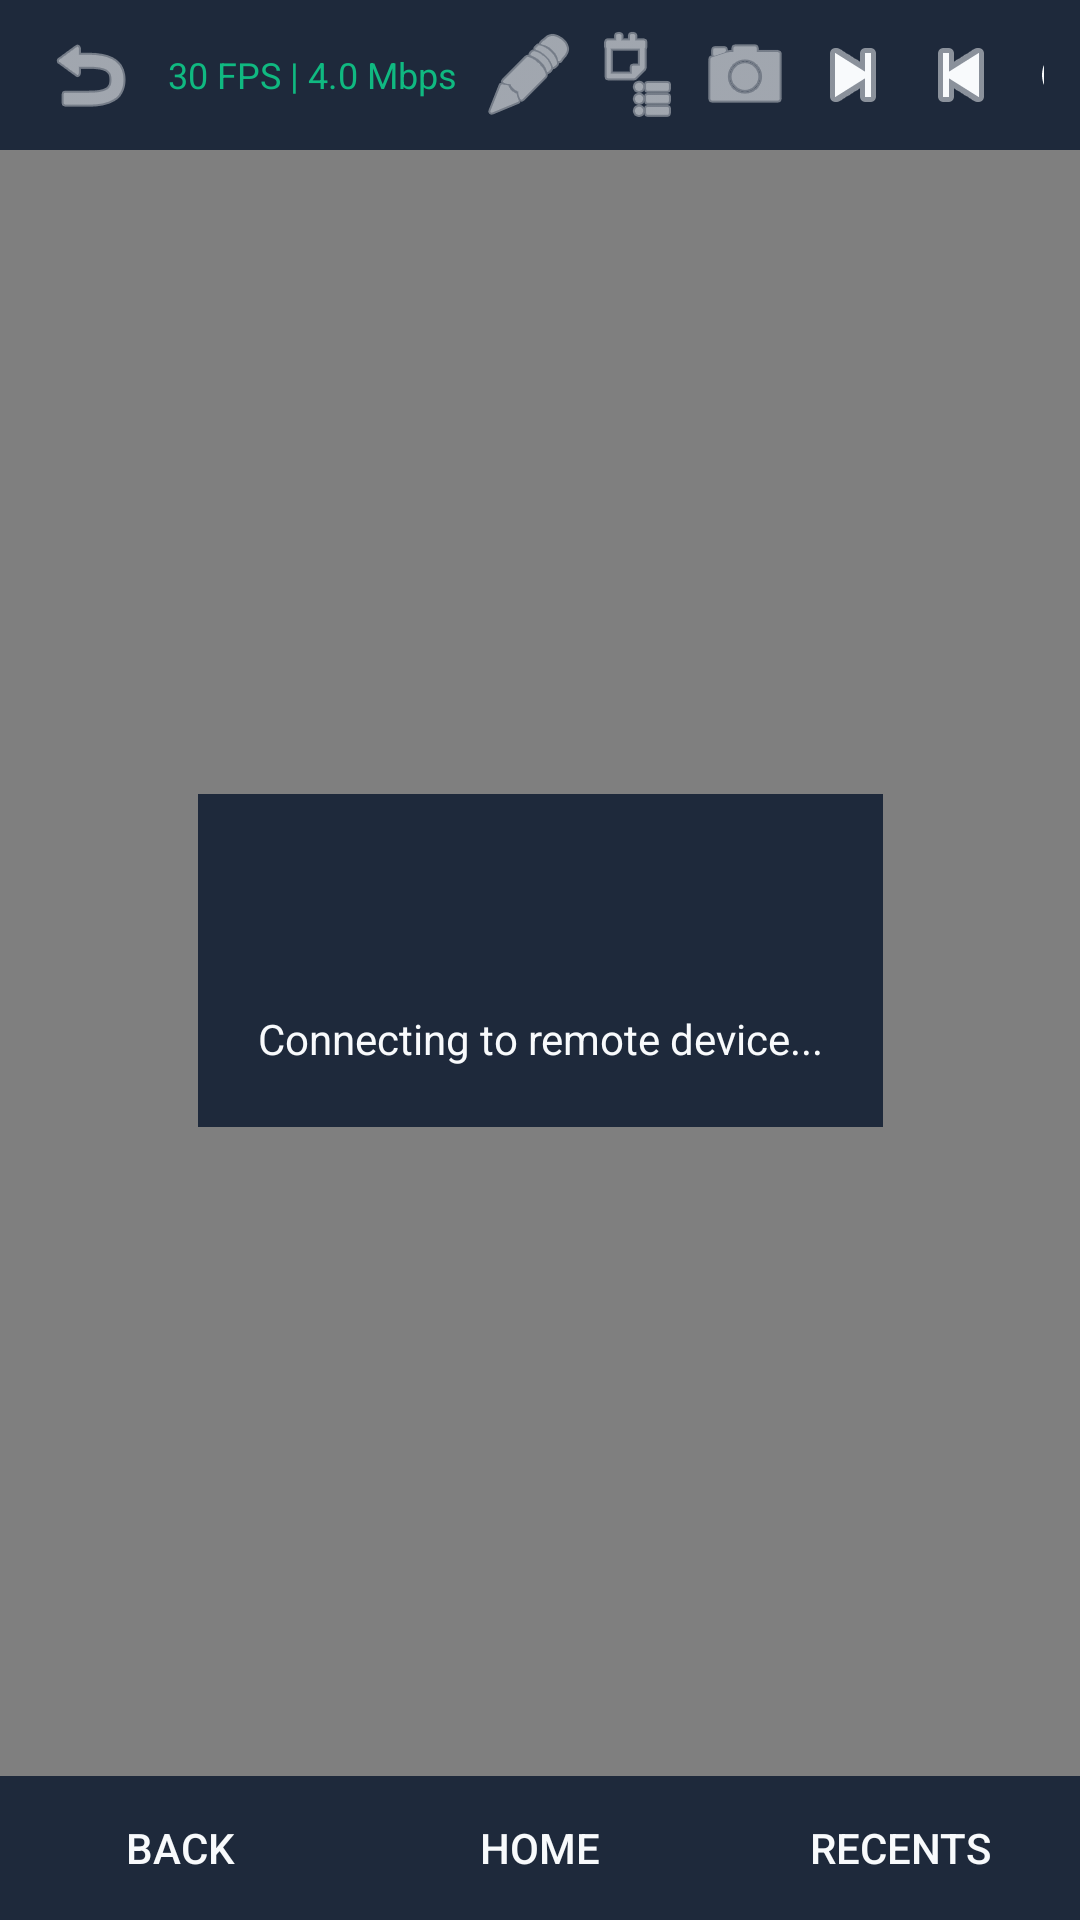

Icon click points for this 1080 × 1920 phone screenshot, format point (x, y):
agenda: point (637, 74)
camera: point (745, 73)
edit: point (528, 74)
next: point (853, 75)
previous: point (961, 75)
revert: point (91, 75)
